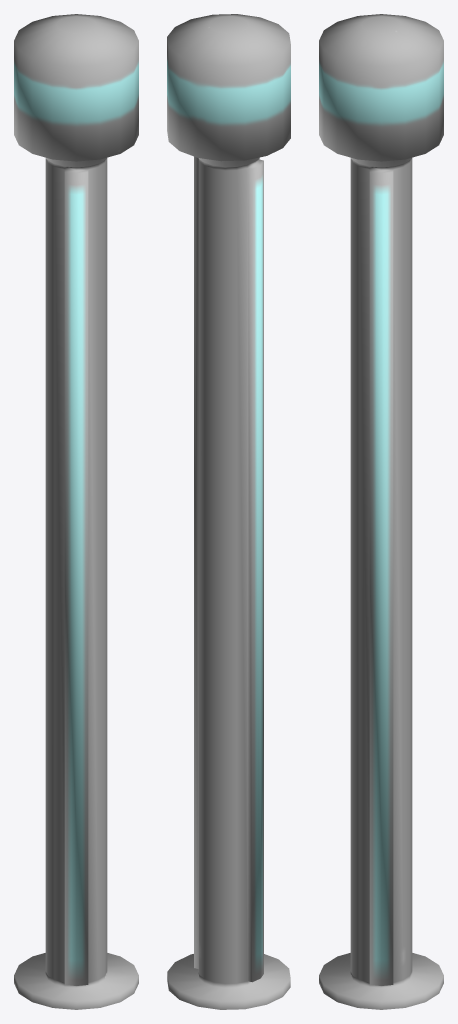
File: FenceMiddlePole.fbx
3 renders of one model, left to right at view 1: azimuth 90°, elevation 25°; view 2: azimuth 150°, elevation 25°; view 3: azimuth 270°, elevation 25°, orthographic.
Visible parts, largest first — view 1: FenceMiddlePole; view 2: FenceMiddlePole; view 3: FenceMiddlePole.
Part boxes in pixels (bbox=[...]): FenceMiddlePole: bbox=[14, 14, 138, 1009]; FenceMiddlePole: bbox=[167, 14, 290, 1009]; FenceMiddlePole: bbox=[319, 14, 443, 1009].
Bounding box in the file's own units: 35.41 × 300 × 35.41.
